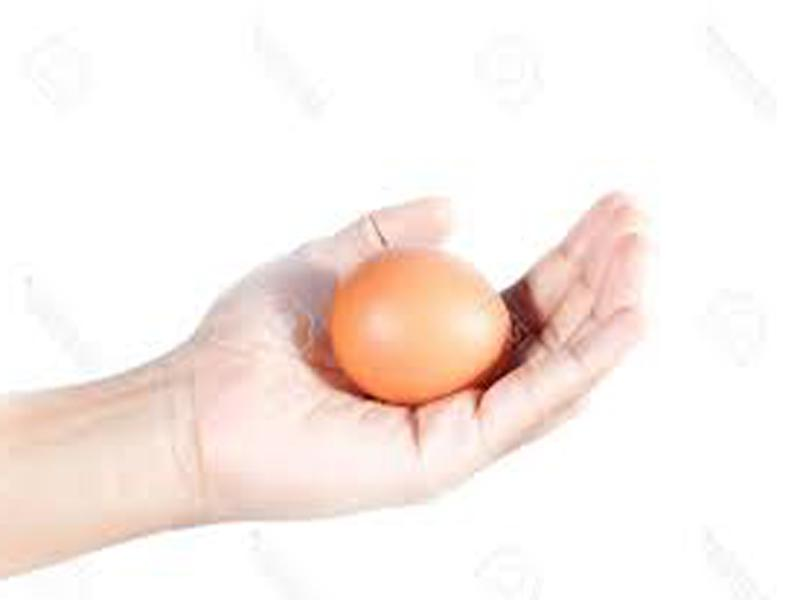Eggs: (331, 249, 508, 400)
